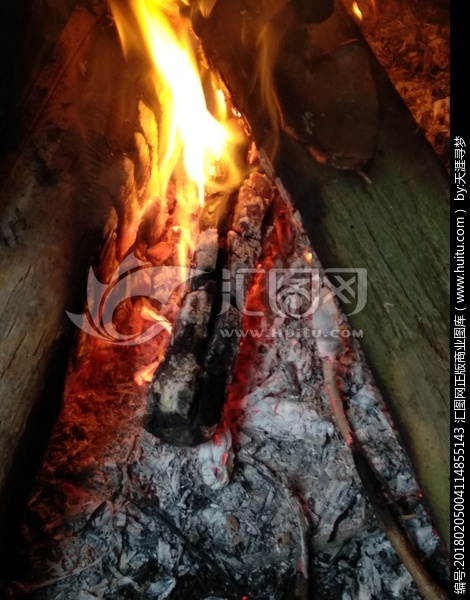fire: (120, 0, 253, 254)
